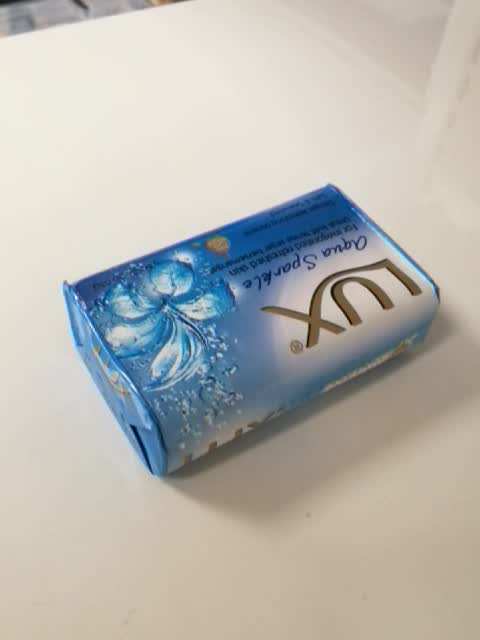soap: (59, 179, 446, 482)
